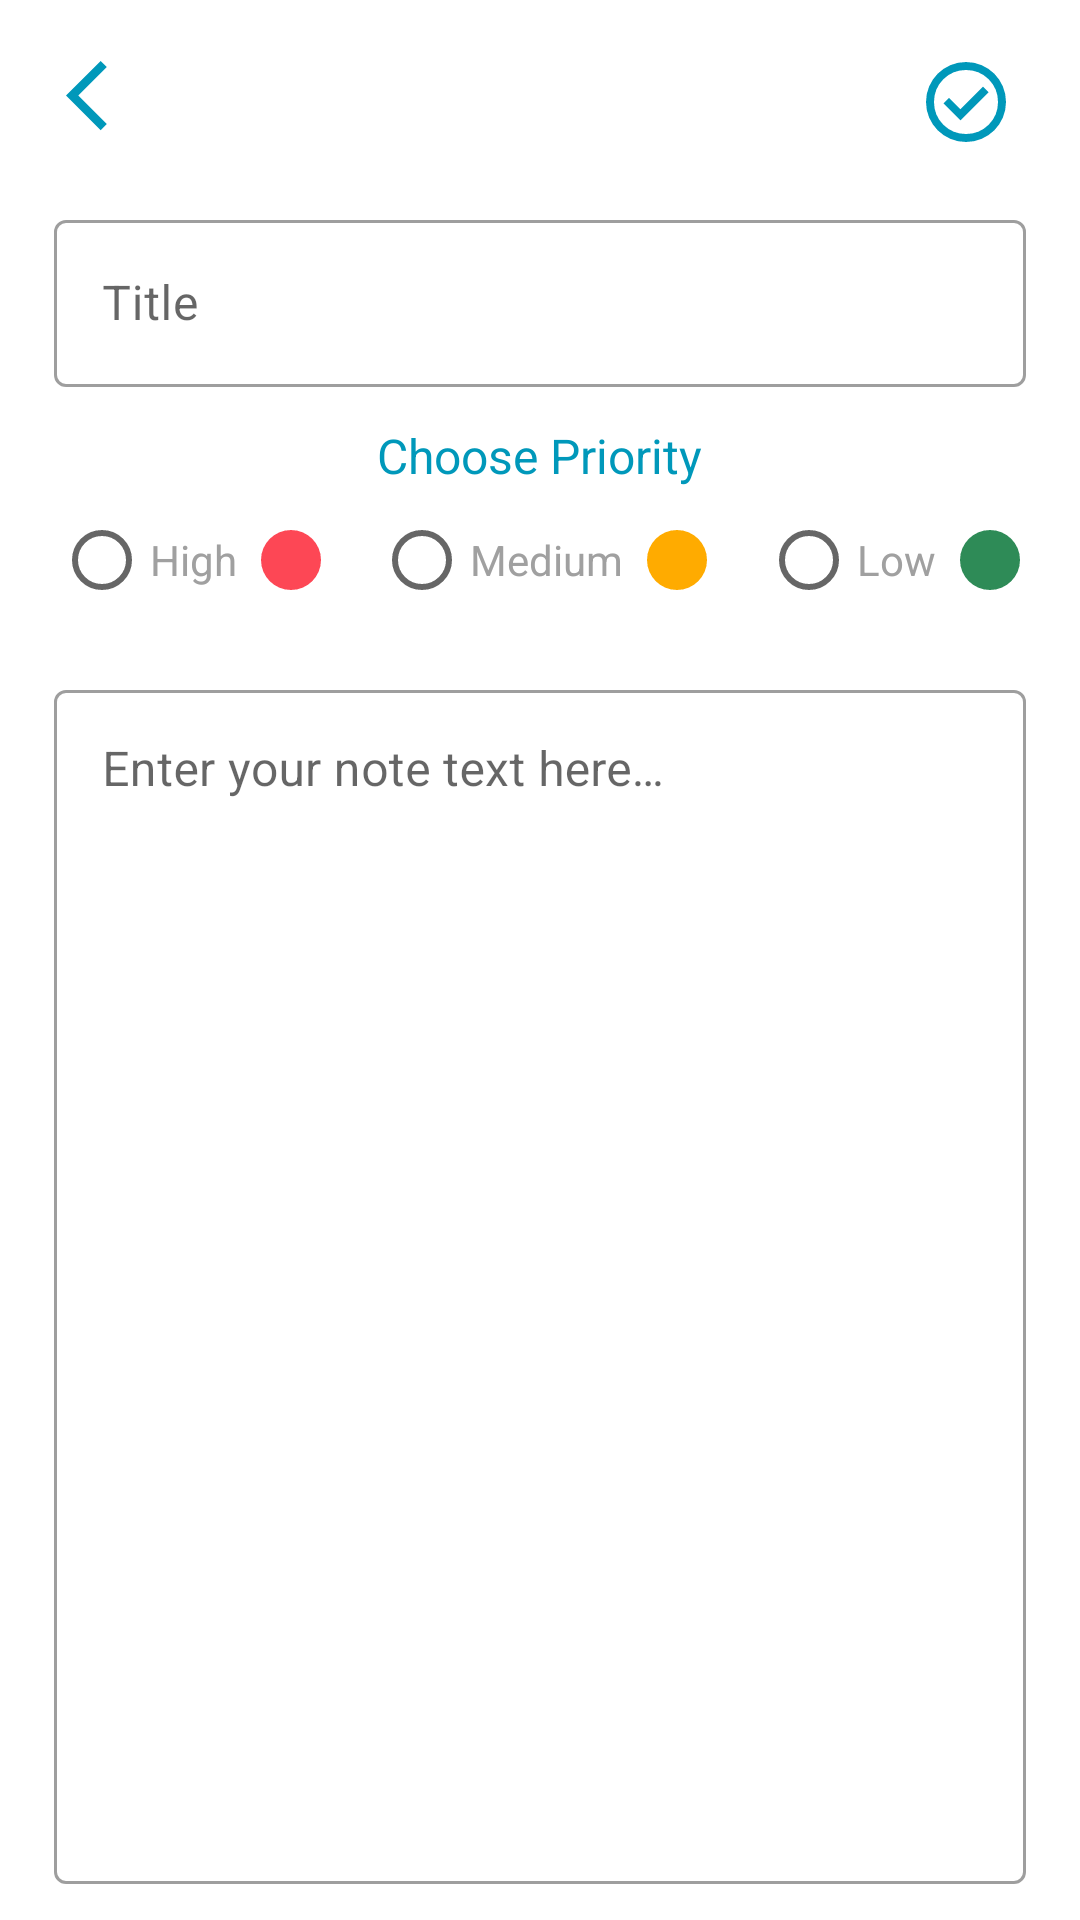

Icon bounding boxes for this 1080 x 1920 phone screenshot, format (x1, y1, x2, y2):
Press to back: (66, 61, 107, 130)
Save: (926, 62, 1006, 142)
